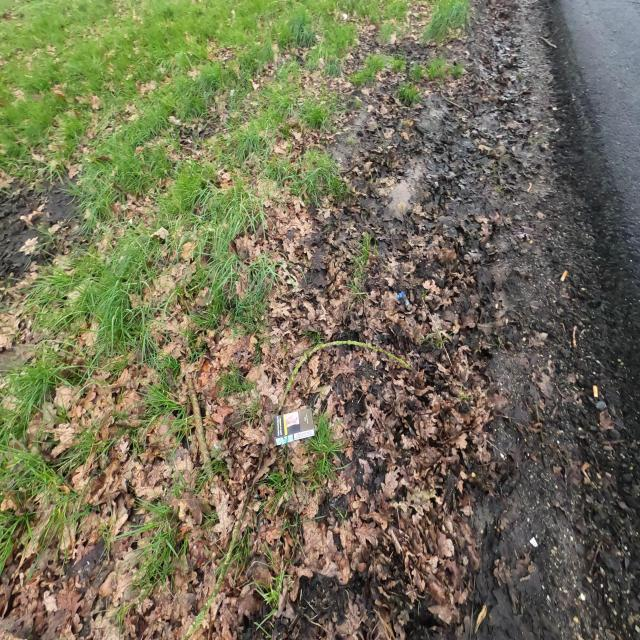Paper: (273, 407, 316, 447)
